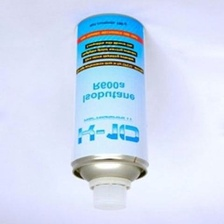aerosol_cans: (67, 10, 152, 215)
